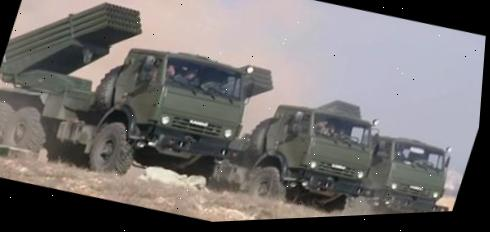rszo: (0, 0, 275, 229), (201, 47, 398, 222), (286, 77, 477, 219)
